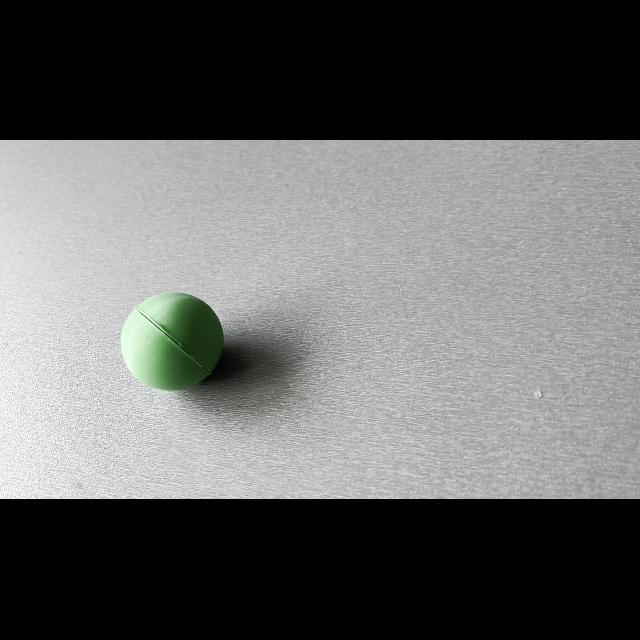objects: (115, 282, 232, 398)
